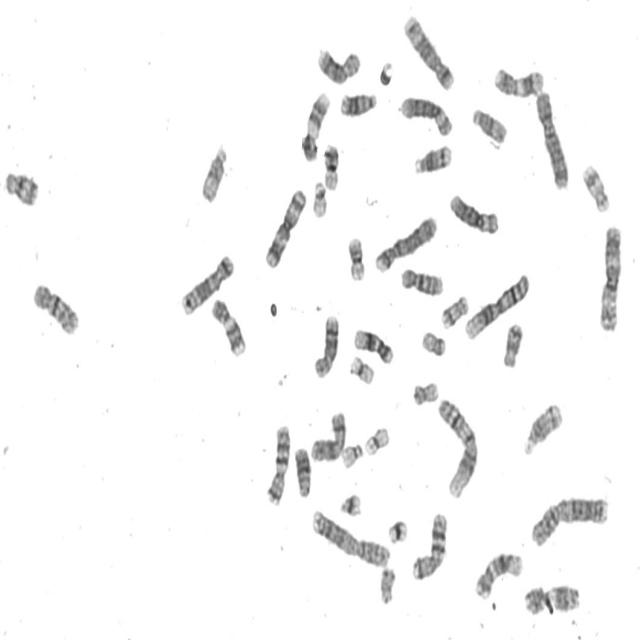A1: (462, 267, 532, 342), (435, 391, 482, 501)
A2: (309, 502, 393, 568), (528, 489, 612, 548)
A3: (262, 182, 309, 270), (596, 220, 625, 332)
B4: (372, 210, 440, 274), (533, 84, 572, 191)
B5: (401, 8, 457, 92), (179, 248, 236, 317)
C10: (29, 276, 82, 337), (398, 262, 446, 298)
C11: (522, 579, 583, 616), (492, 61, 546, 99)
C12: (473, 546, 525, 600), (351, 324, 396, 366)
C6: (398, 90, 455, 138), (447, 187, 501, 236)
C7: (409, 506, 450, 582), (264, 419, 292, 507)
C8: (314, 41, 363, 86), (312, 310, 341, 380)
C9: (209, 293, 248, 358), (300, 86, 332, 162)
D13: (338, 86, 379, 118), (292, 442, 314, 498)
D14: (521, 396, 565, 457), (412, 139, 454, 176)
D15: (198, 137, 230, 204), (470, 102, 510, 145)
E16: (345, 231, 368, 283), (321, 139, 341, 192)
E17: (580, 157, 612, 214), (439, 289, 471, 331)
E18: (2, 165, 41, 208), (500, 317, 526, 369)
F19: (347, 350, 376, 386), (363, 421, 392, 457)
F20: (419, 325, 448, 358), (410, 376, 440, 406)
G21: (337, 486, 364, 518), (386, 514, 410, 546)
G22: (339, 437, 365, 470), (310, 176, 329, 218)
X: (308, 405, 348, 464)
Y: (377, 562, 398, 606)
